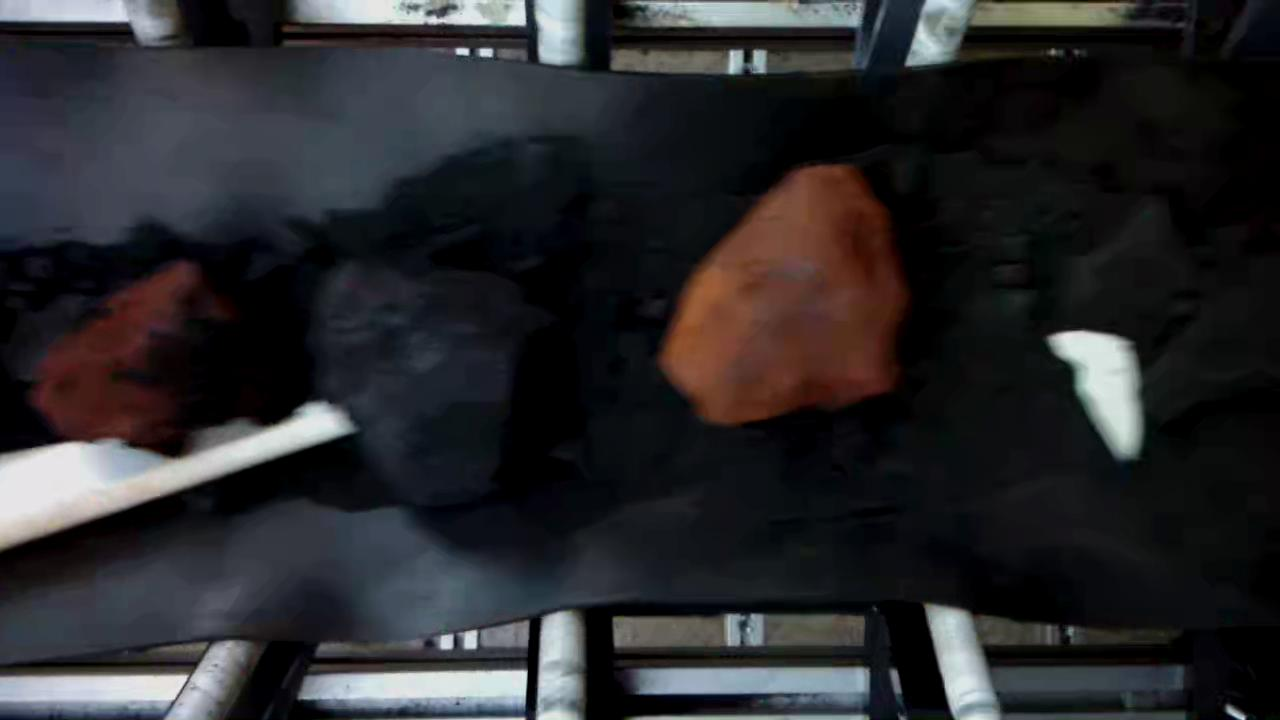conveyor: (5, 80, 1280, 589)
